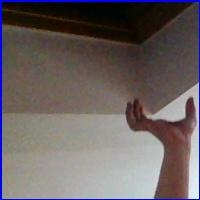space: (122, 91, 189, 150)
